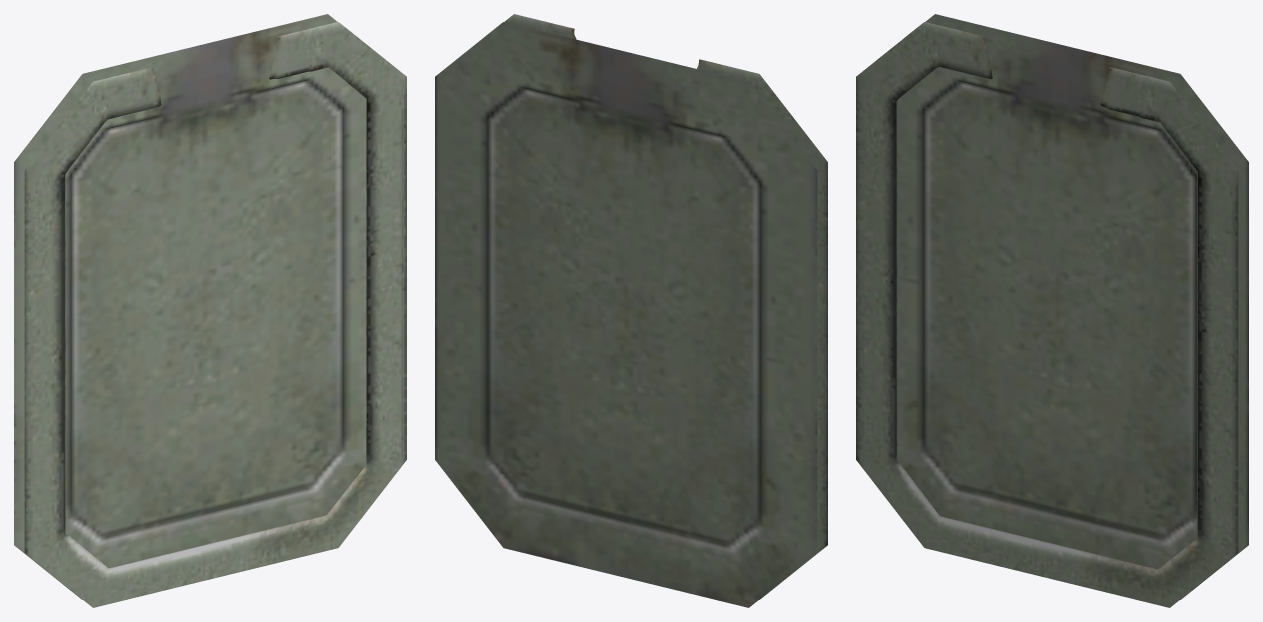
The model's file is eqp_id_badge_s01_l2.fbx.
The picture shows the model from 3 angles, left to right: view 1: azimuth 30°, elevation 25°; view 2: azimuth 150°, elevation 25°; view 3: azimuth 330°, elevation 25°; orthographic projection.
Parts seen in each view (by area): view 1: mesh_node; view 2: mesh_node; view 3: mesh_node.
Part boxes in pixels (x1=…): mesh_node: x1=14, y1=14, x2=406, y2=607; mesh_node: x1=435, y1=14, x2=827, y2=607; mesh_node: x1=856, y1=14, x2=1248, y2=607.
Size of the model in its own units: 0.0574 by 0.0756 by 0.00278.
Materials: 1 (1 with a texture image).
